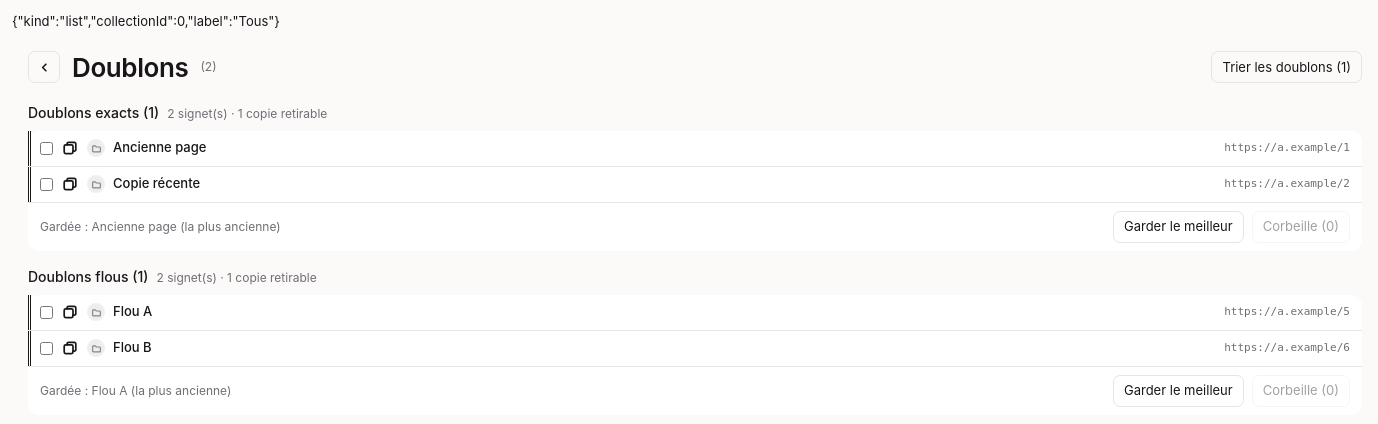
doublons — la garde, le gardé, et le tri › « Garder le meilleur » coche la copie, pas l'originale
This screenshot has width=1378, height=424.
expect the text "Ancienne page" is shown: met, box [113,139,206,155]
Click the button "Garder le meilleur" below "https://a.example/2". click: click(1178, 226)
box: [1113,210,1244,242]
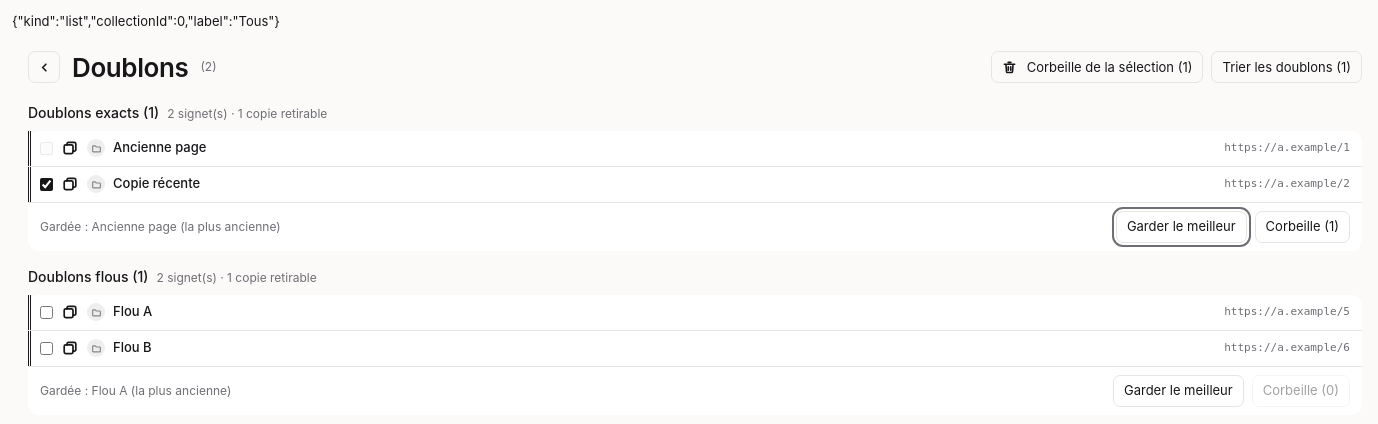
expect the checkbox named "Copie récente" is checked: met, box [40,178,53,190]
